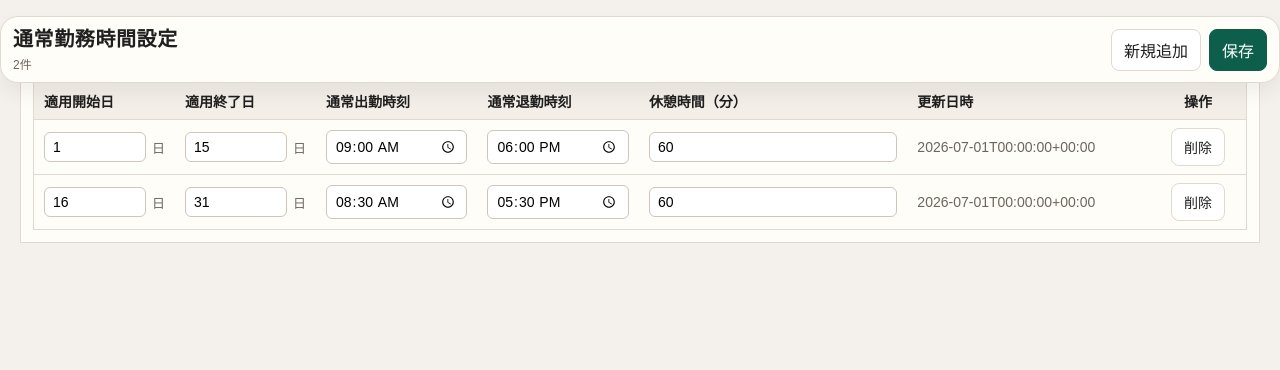
it: 通常勤務時間設定画面 › 重複エラーを適用期間の詳細エラーとして表示する
Replace the text in the number field named "2行目 適用開始日" with "10": coordinates (95, 202) [44,187,146,217]
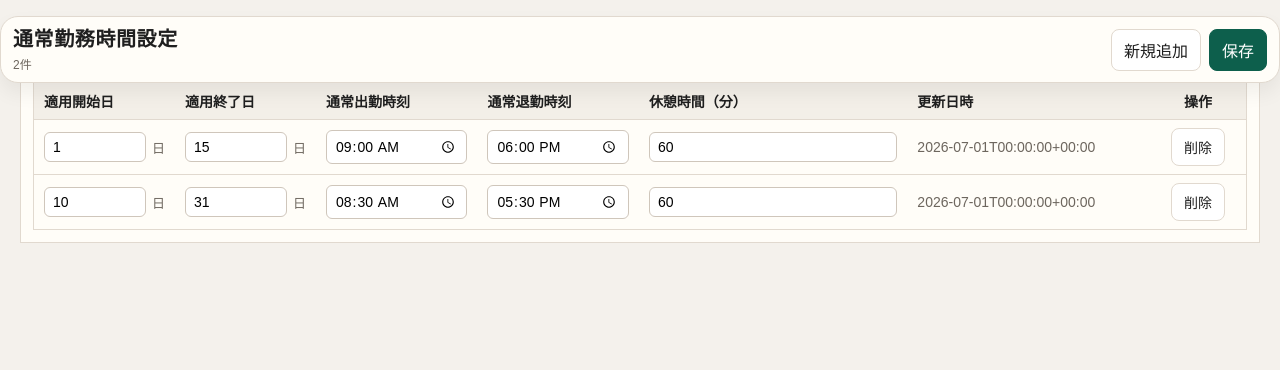
Click the button "保存": coordinates (1238, 50) [1209,28,1267,70]
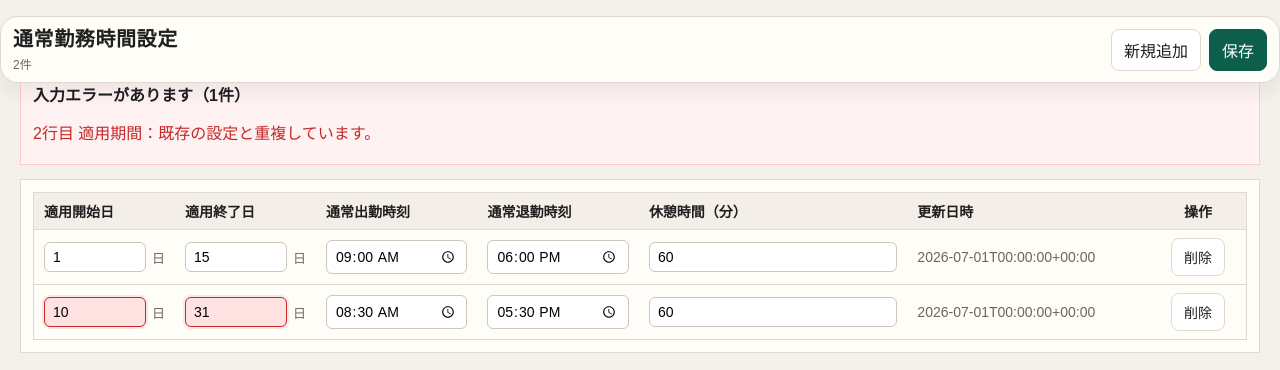
Now the message shows "2行目 適用期間：既存の設定と重複しています。", box [33,122,1239,146]
